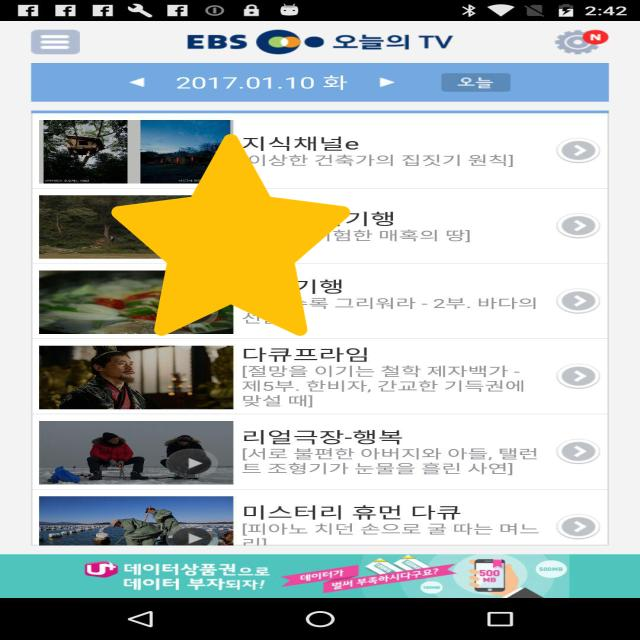forced continuity: (112, 134, 350, 336)
